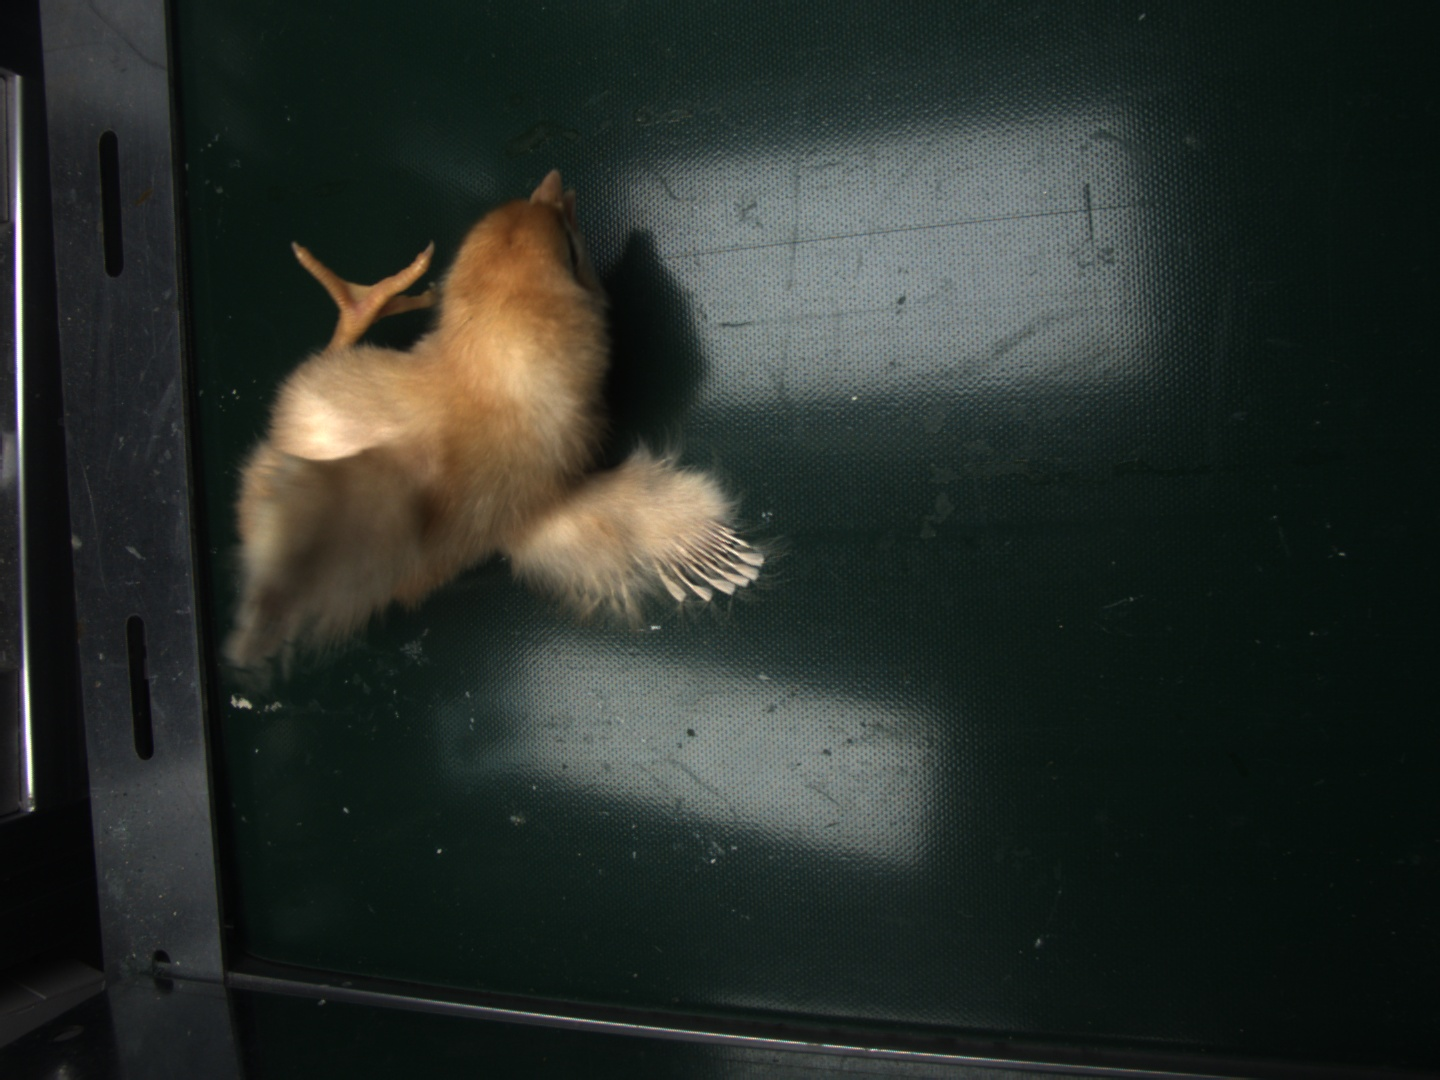female: (661, 521, 765, 597)
